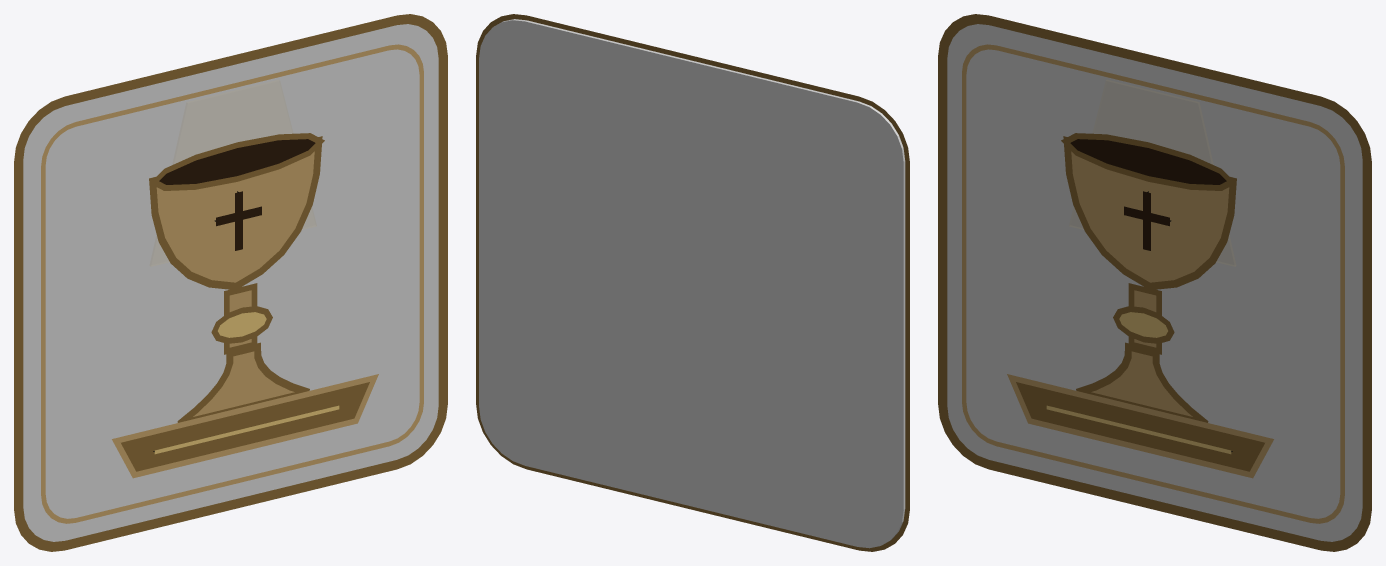
File: obj-potir.glb
3 views of the same model, side by side, from view 1: azimuth 30°, elevation 25°; view 2: azimuth 150°, elevation 25°; view 3: azimuth 330°, elevation 25° (orthographic).
Visible parts, largest first — view 1: obj-potir; view 2: obj-potir; view 3: obj-potir.
Boxes of the visible parts, x1,y1,x2,y2 form: obj-potir: [14, 14, 447, 551]; obj-potir: [476, 14, 909, 551]; obj-potir: [938, 14, 1371, 551].
Bounding box in the file's own units: 0.3917 × 0.3917 × 0.0276.
